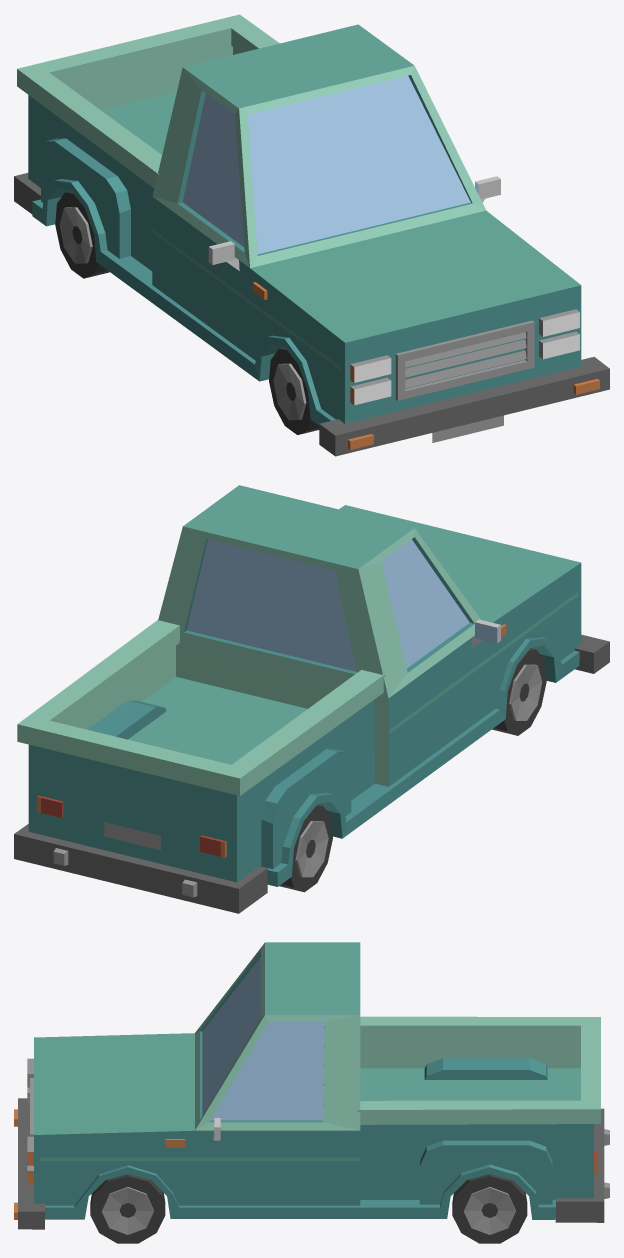
File: transport_old_012.fbx
3 renders of one model, top to bottom at view 1: azimuth 30°, elevation 25°; view 2: azimuth 150°, elevation 25°; view 3: azimuth 270°, elevation 25°, orthographic. The views are drawn at different scales.
Parts seen in each view (by area): view 1: transport_old_012; view 2: transport_old_012; view 3: transport_old_012.
Part boxes in pixels (x1=…): transport_old_012: x1=14, y1=14, x2=609, y2=456; transport_old_012: x1=14, y1=485, x2=609, y2=913; transport_old_012: x1=14, y1=942, x2=609, y2=1243.
Bounding box in the file's own units: 166 × 141 × 351.
